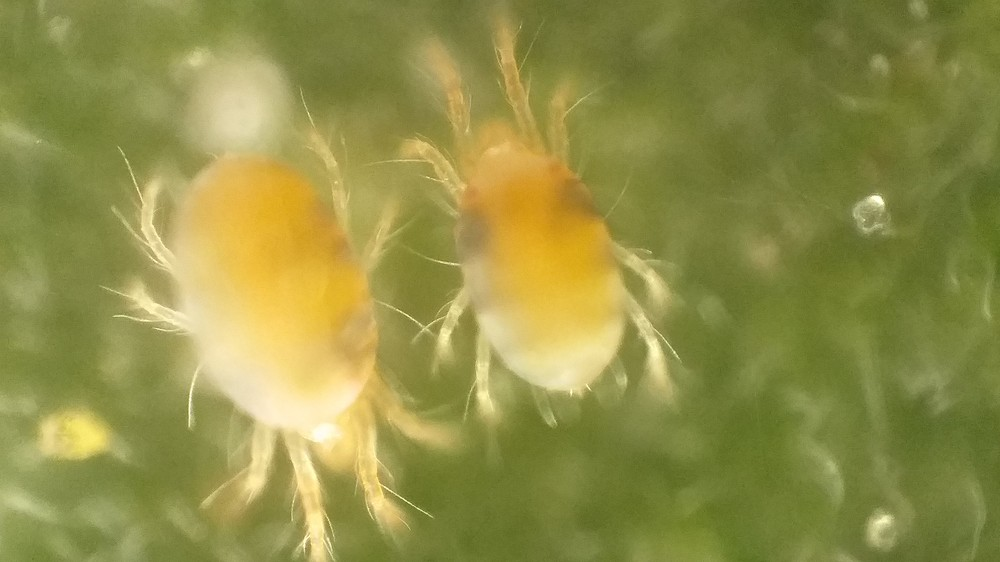Aracnido Rojo: (95, 111, 453, 559), (395, 37, 723, 441)
